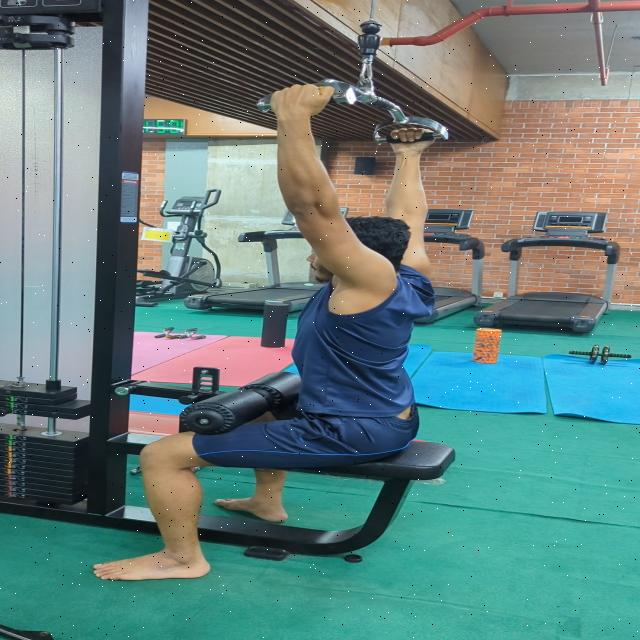Normal_LatPulldown: (68, 81, 462, 586)
